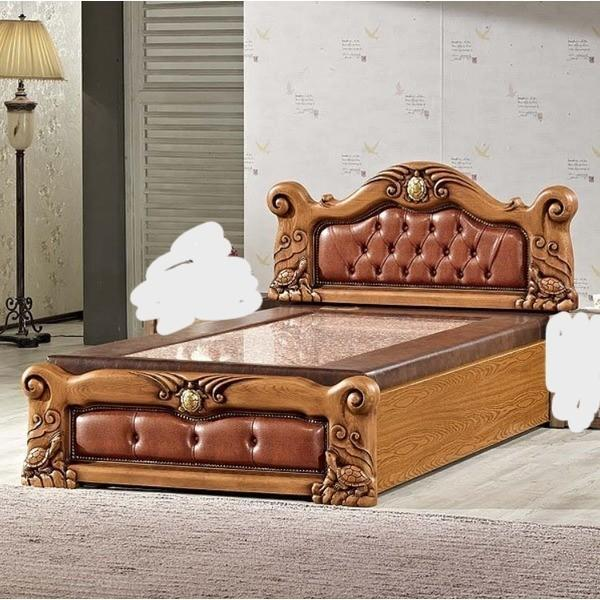Bed-Mattress: (21, 158, 580, 497)
